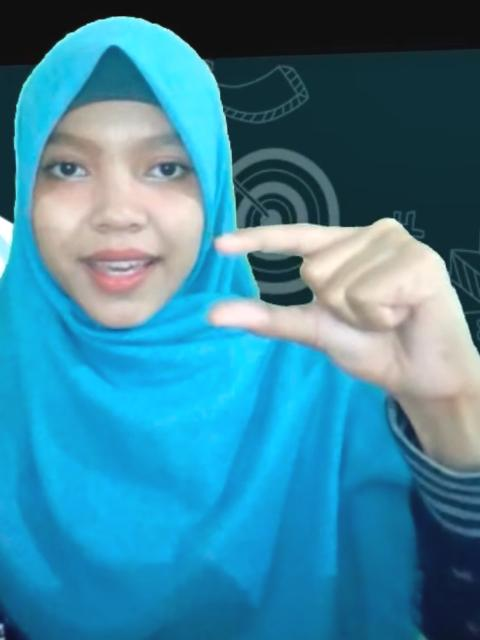G: (207, 214, 479, 392)
